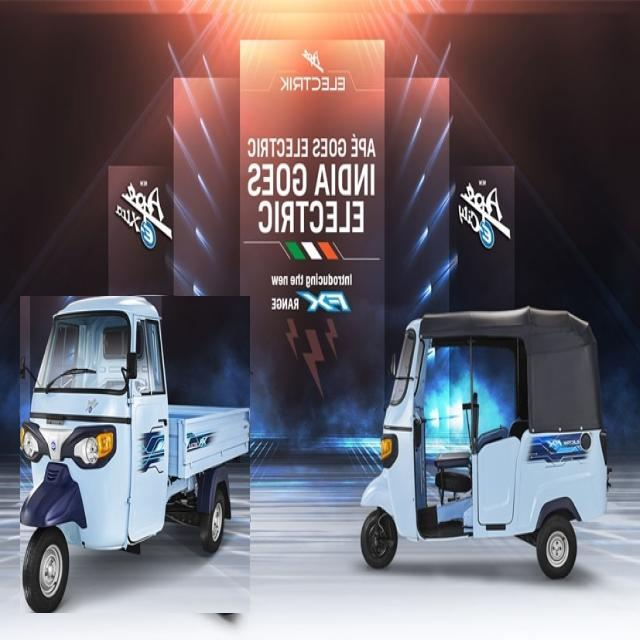autorickshaw: (20, 296, 250, 613), (361, 308, 609, 577)
